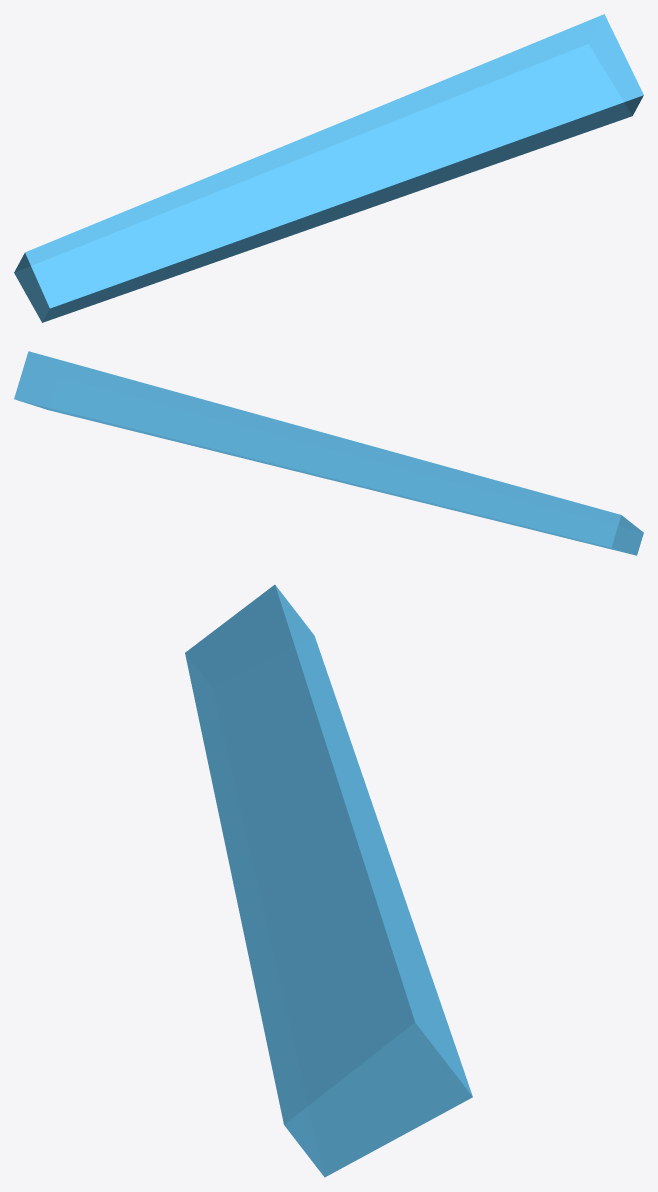
File: Event_420094457_HErechit_92.fbx
3 renders of one model, top to bottom at view 1: azimuth 30°, elevation 25°; view 2: azimuth 150°, elevation 25°; view 3: azimuth 270°, elevation 25°, orthographic. The views are drawn at different scales.
Visible parts, largest first — view 1: Model; view 2: Model; view 3: Model.
Boxes of the visible parts, bbox=[...] form: Model: bbox=[14, 14, 643, 322]; Model: bbox=[14, 351, 643, 555]; Model: bbox=[185, 584, 472, 1177].
Size of the model in its own units: 5.15 by 0.926 by 1.15.
